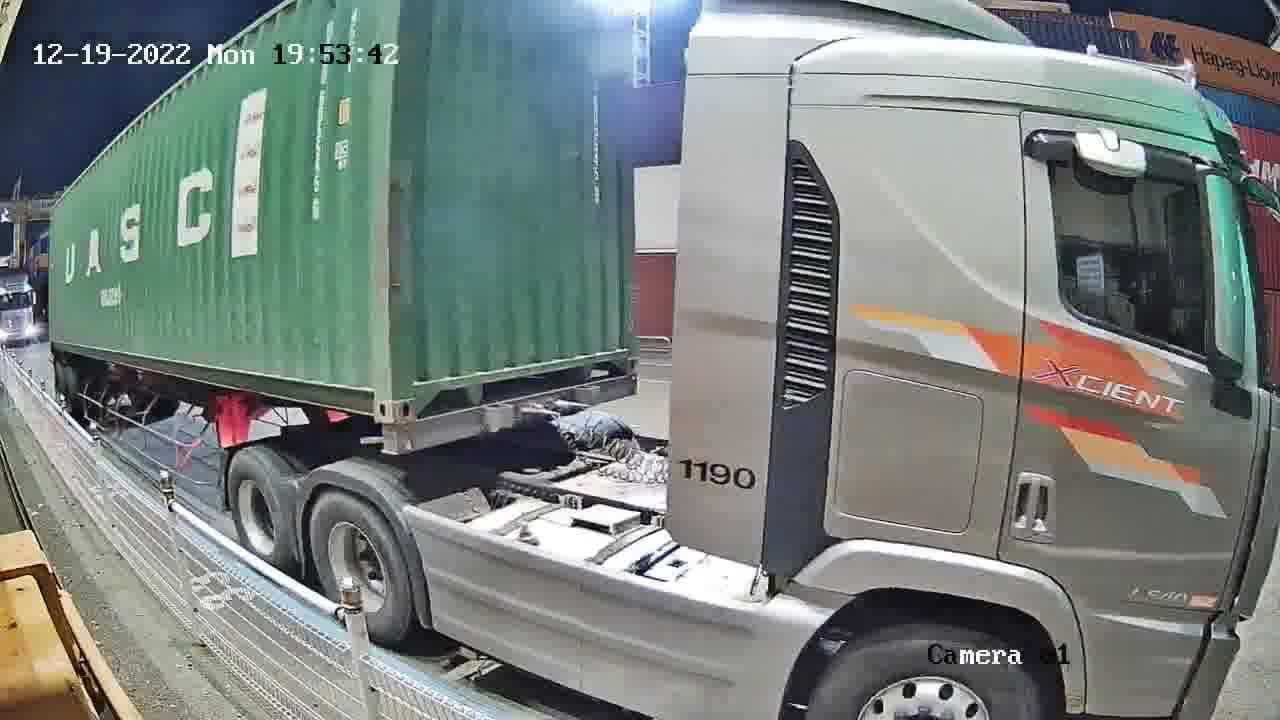Chassis: (379, 375, 638, 452)
Hole_L: (390, 364, 444, 423)
Hole_R: (342, 363, 392, 423), (590, 328, 639, 380)
Tire: (310, 493, 409, 636), (227, 453, 287, 565)
